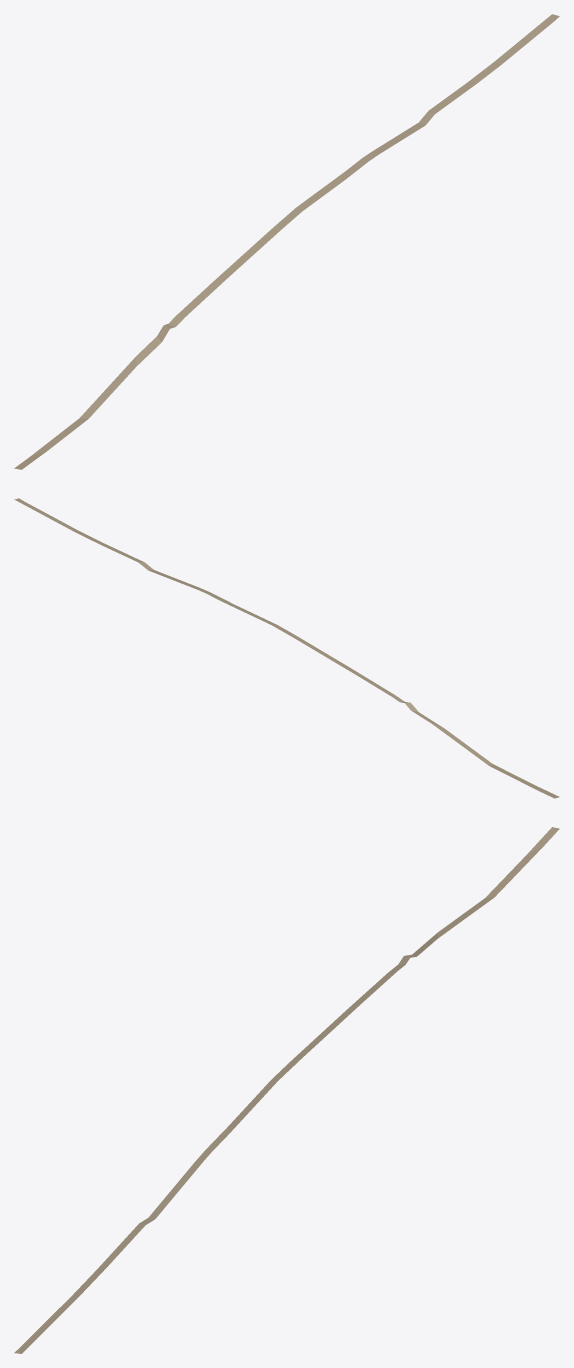
File: farm_-1_1_track.glb
3 renders of one model, top to bottom at view 1: azimuth 90°, elevation 25°; view 2: azimuth 150°, elevation 25°; view 3: azimuth 270°, elevation 25°, orthographic. The views are drawn at different scales.
Parts seen in each view (by area): view 1: geometry_0; view 2: geometry_0; view 3: geometry_0.
Boxes of the visible parts, <box> form: geometry_0: <box>14,14,559,469</box>; geometry_0: <box>14,498,559,798</box>; geometry_0: <box>14,827,559,1353</box>.
Bounding box in the file's own units: 445 × 18.22 × 209.
